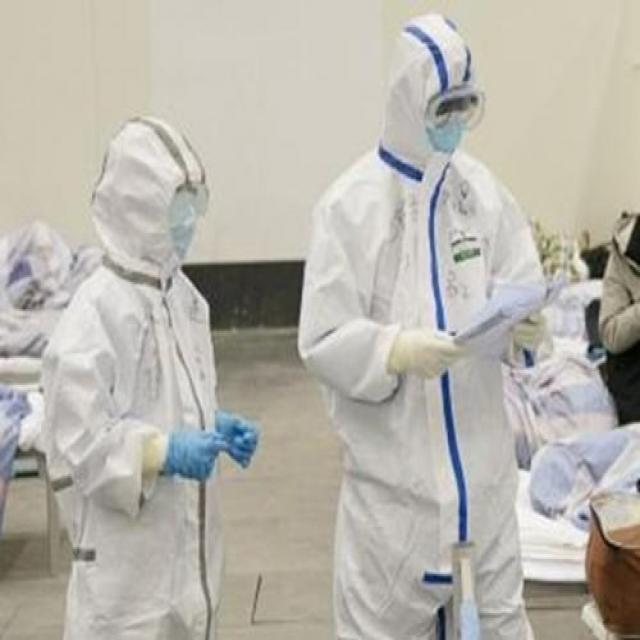Gloves: (388, 324, 459, 378), (163, 422, 224, 481), (214, 408, 258, 469), (512, 307, 547, 348)
Goggles: (422, 84, 487, 130), (172, 182, 211, 216)
